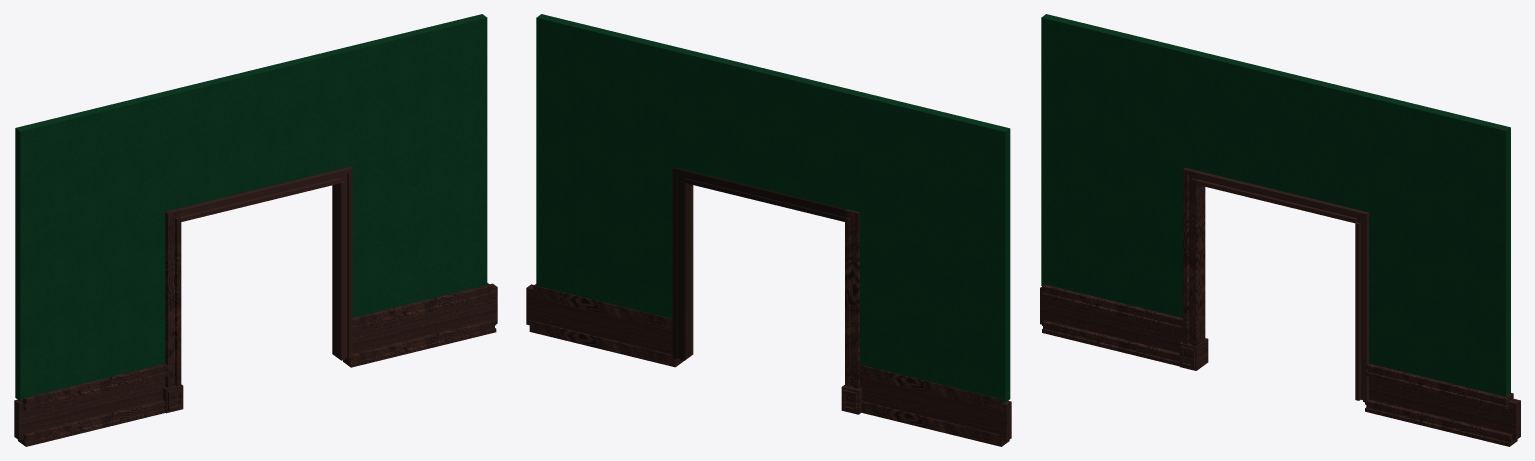
Rendered from Environment_WallpaperEnteranceWall_Green.glb.
3 renders of one model, left to right at view 1: azimuth 30°, elevation 25°; view 2: azimuth 150°, elevation 25°; view 3: azimuth 330°, elevation 25°, orthographic.
Parts seen in each view (by area): view 1: Wall R, Cube.005, Wall R.003, Wall R.004, Cube.008, Cube.016, Cube.007, Cube.015, Cube.004; view 2: Wall R, Cube.005, Wall R.003, Wall R.004, Cube.008, Cube.007, Cube.016, Cube.015, Cube.004; view 3: Wall R, Cube.005, Wall R.004, Wall R.003, Cube.008, Cube.015, Cube.016, Cube.007, Cube.004.
Boxes of the visible parts, x1,y1,x2,y2 form: Wall R: (15,14,487,401); Cube.005: (165,166,352,388); Wall R.003: (14,377,165,440); Wall R.004: (345,283,497,359); Cube.008: (343,319,496,367); Cube.016: (21,363,167,410); Cube.007: (18,400,165,446); Cube.015: (352,283,492,330); Cube.004: (163,384,183,413); Wall R: (536,14,1010,402); Cube.005: (672,167,859,388); Wall R.003: (860,376,1011,441); Wall R.004: (526,284,679,360); Cube.008: (529,320,683,367); Cube.007: (861,401,1009,446); Cube.016: (859,365,1003,410); Cube.015: (533,284,672,330); Cube.004: (841,385,862,414); Wall R: (1041,14,1510,396); Cube.005: (1183,167,1369,402); Wall R.004: (1369,377,1520,440); Wall R.003: (1040,287,1182,352); Cube.008: (1365,399,1517,446); Cube.015: (1366,363,1513,409); Cube.016: (1042,284,1182,331); Cube.007: (1042,320,1179,366); Cube.004: (1179,338,1208,370).
Size of the model in its own units: 31.33 by 19.65 by 1.61.
3 materials, 3 textured.
